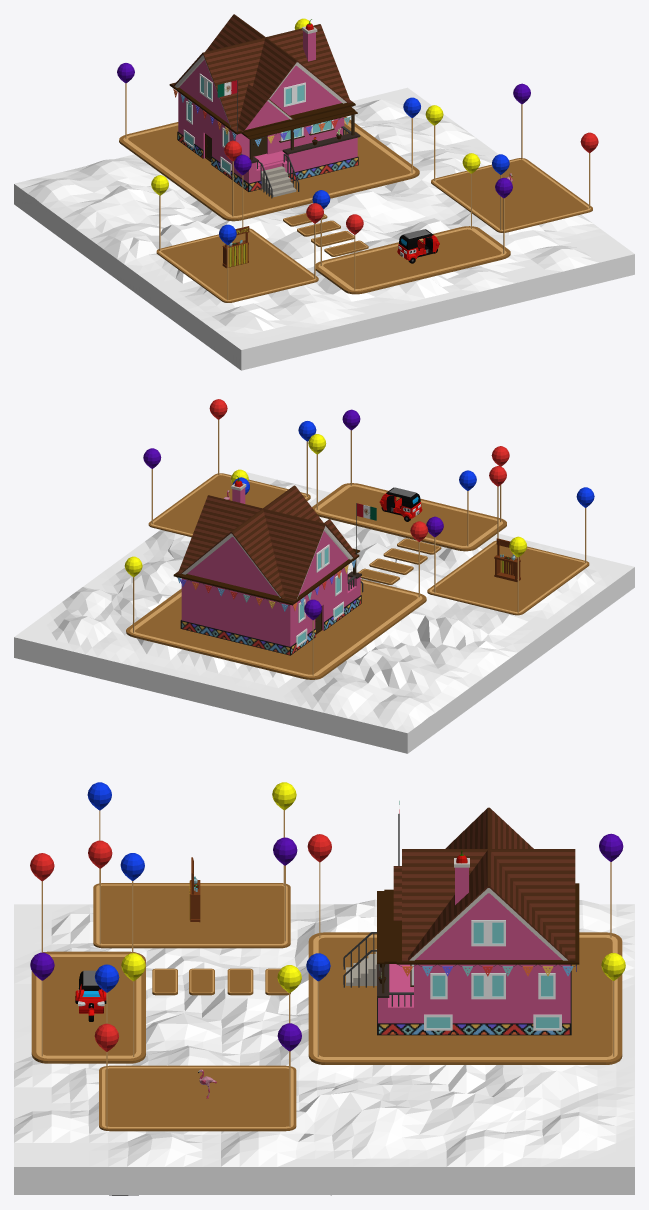
The picture shows the model from 3 angles, top to bottom: view 1: azimuth 30°, elevation 25°; view 2: azimuth 150°, elevation 25°; view 3: azimuth 270°, elevation 25°; orthographic projection. The views are drawn at different scales.
Visible parts, largest first — view 1: Cube.013, Cube.1005, VEHICLES_TUC_TUC, OBJRANDOM_LEMONADE_STAND; view 2: Cube.013, Cube.1005, VEHICLES_TUC_TUC, OBJRANDOM_LEMONADE_STAND; view 3: Cube.013, Cube.1005, VEHICLES_TUC_TUC, OBJRANDOM_LEMONADE_STAND.
Part boxes in pixels (box(x1,y1,x2,y2)): Cube.013: box(14, 18, 634, 370); Cube.1005: box(169, 14, 360, 198); VEHICLES_TUC_TUC: box(397, 229, 439, 263); OBJRANDOM_LEMONADE_STAND: box(222, 226, 249, 268); Cube.013: box(14, 399, 634, 753); Cube.1005: box(173, 476, 376, 655); VEHICLES_TUC_TUC: box(379, 487, 422, 521); OBJRANDOM_LEMONADE_STAND: box(494, 538, 520, 581); Cube.013: box(14, 782, 634, 1194); Cube.1005: box(343, 801, 579, 1035); VEHICLES_TUC_TUC: box(75, 970, 106, 1021); OBJRANDOM_LEMONADE_STAND: box(189, 857, 200, 922).
Bounding box in the file's own units: 4000 × 1747 × 4000.
Materials: 74 (3 with a texture image).
